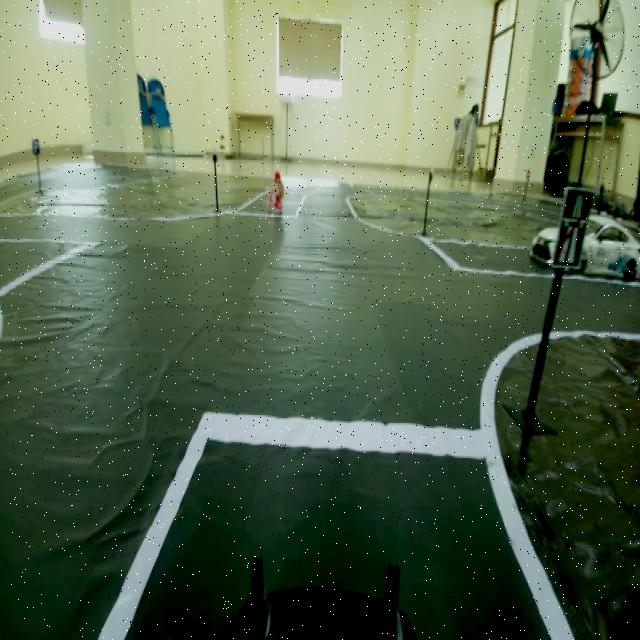highway_exit: (550, 174, 596, 274)
